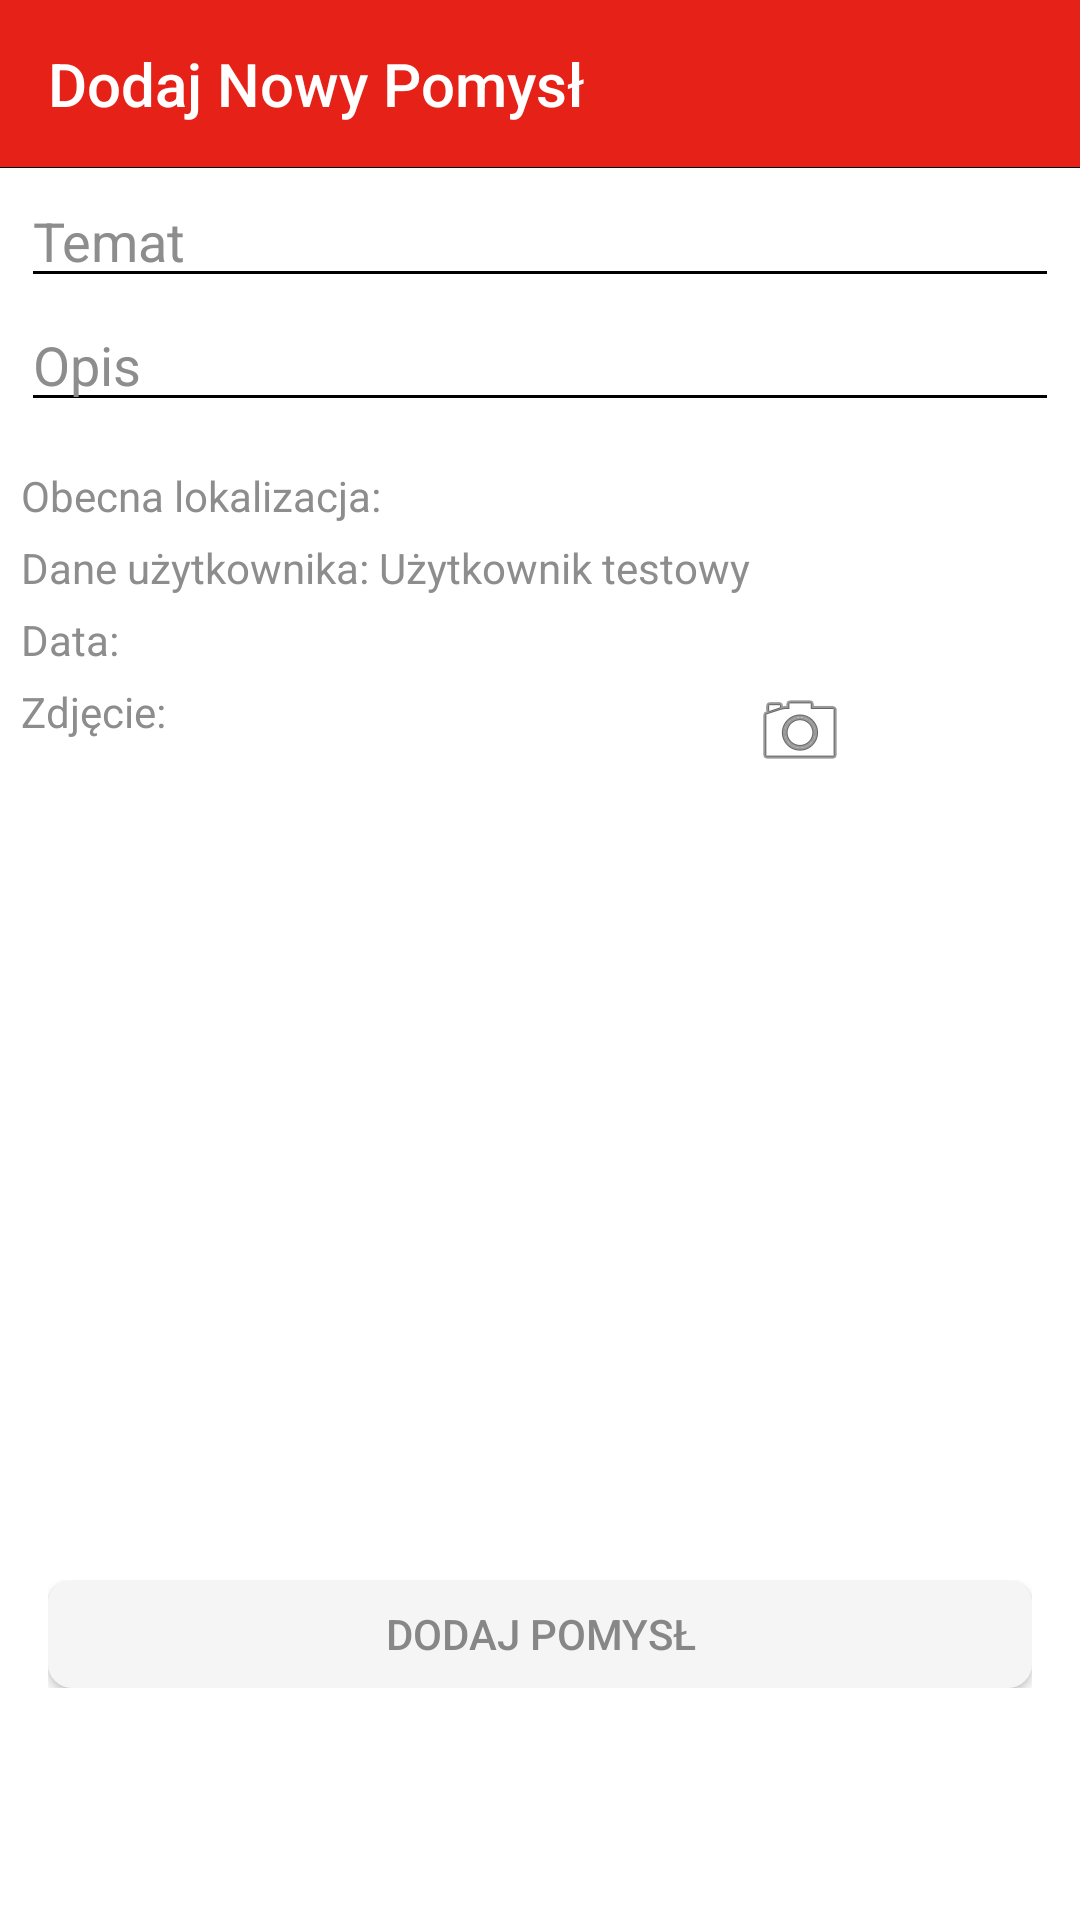

Icon click points for this 1080*1920 phone screenshot, format [x,y]:
camera: [800,729]
